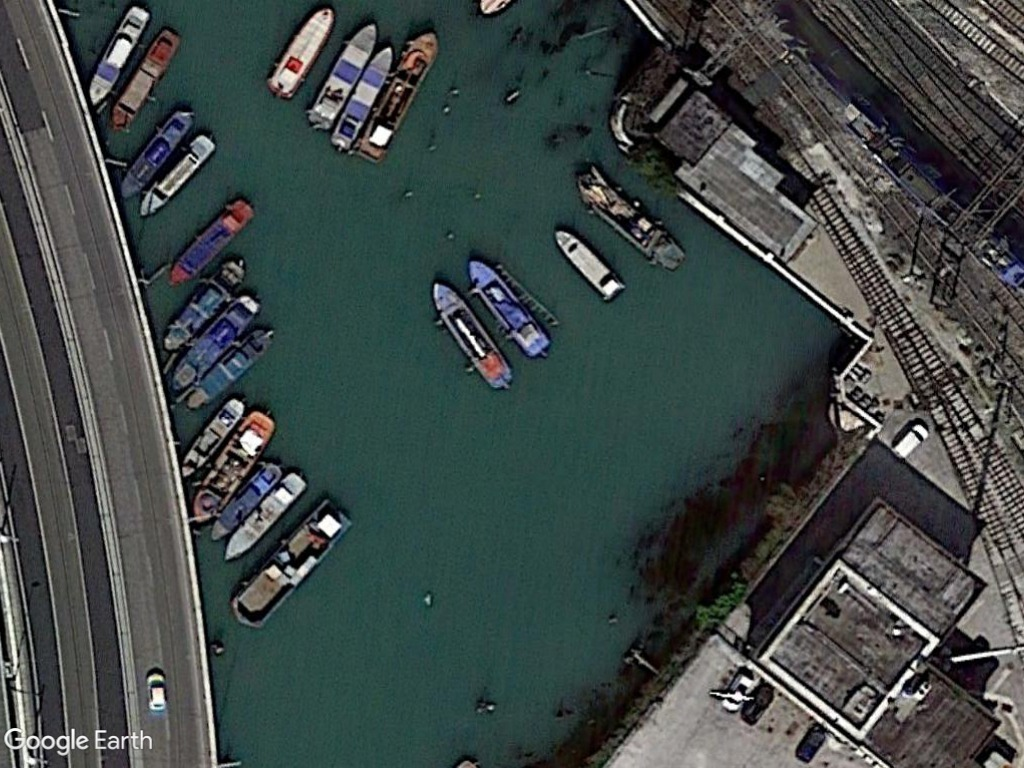boat: (227, 498, 358, 636), (571, 166, 690, 277), (176, 411, 282, 530), (357, 28, 441, 166), (167, 287, 263, 394), (429, 278, 515, 395), (467, 253, 557, 361), (222, 464, 315, 563), (303, 20, 384, 131), (163, 253, 250, 356), (325, 42, 406, 152), (166, 191, 255, 291), (185, 322, 279, 416), (104, 25, 182, 134), (115, 104, 198, 204), (260, 3, 339, 104), (133, 126, 215, 222), (80, 5, 153, 110), (206, 457, 288, 542), (171, 392, 251, 479), (547, 222, 627, 302)
car: (889, 420, 930, 463), (142, 667, 171, 716)
